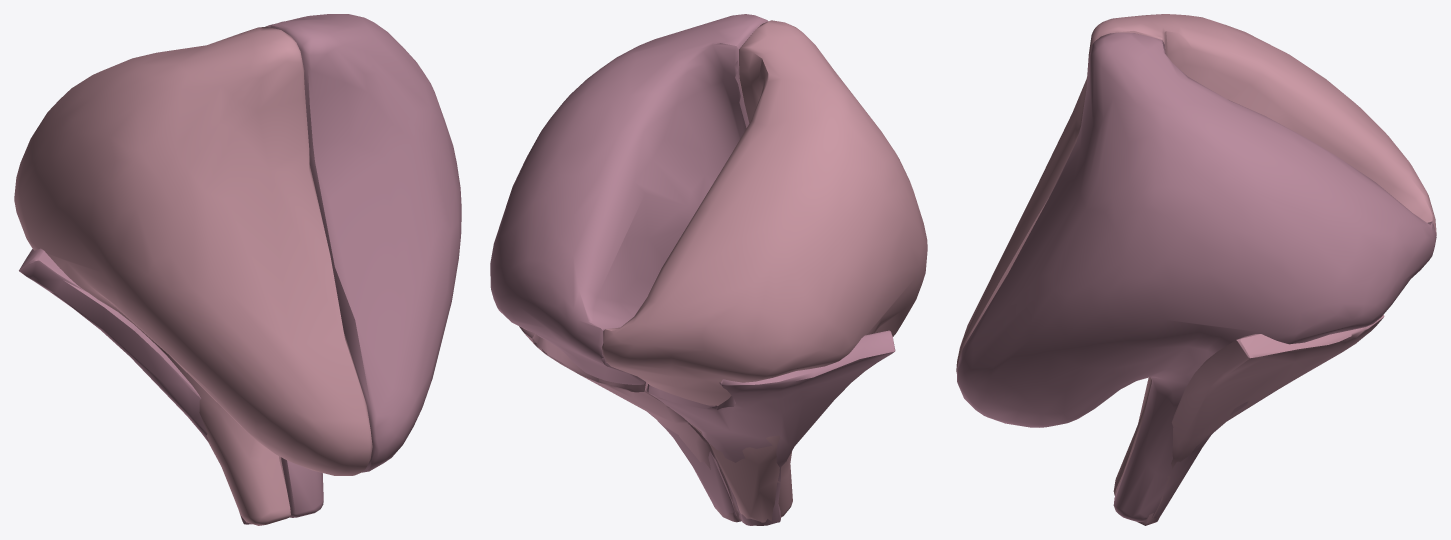
The model's file is hypothalamus.glb.
The picture shows the model from 3 angles, left to right: view 1: azimuth 30°, elevation 25°; view 2: azimuth 150°, elevation 25°; view 3: azimuth 270°, elevation 25°; orthographic projection. The views are drawn at different scales.
Visible parts, largest first — view 1: FJ1808 Hypothalamus, FJ1760 Hypothalamus, FJ1828 Tuber cinereum; view 2: FJ1808 Hypothalamus, FJ1760 Hypothalamus, FJ1828 Tuber cinereum, FJ1780 Tuber cinereum; view 3: FJ1760 Hypothalamus, FJ1808 Hypothalamus, FJ1780 Tuber cinereum.
Boxes of the visible parts, box(x1,y1,x2,y2) form: FJ1808 Hypothalamus: box(14, 26, 372, 525); FJ1760 Hypothalamus: box(266, 14, 461, 517); FJ1828 Tuber cinereum: box(19, 248, 251, 524); FJ1808 Hypothalamus: box(602, 20, 927, 522); FJ1760 Hypothalamus: box(490, 14, 768, 515); FJ1828 Tuber cinereum: box(647, 330, 895, 525); FJ1780 Tuber cinereum: box(519, 326, 741, 522); FJ1760 Hypothalamus: box(957, 32, 1436, 521); FJ1808 Hypothalamus: box(956, 14, 1436, 495); FJ1780 Tuber cinereum: box(1137, 315, 1384, 525).
Bounding box in the file's own units: 0.0172 × 0.02 × 0.0179.
